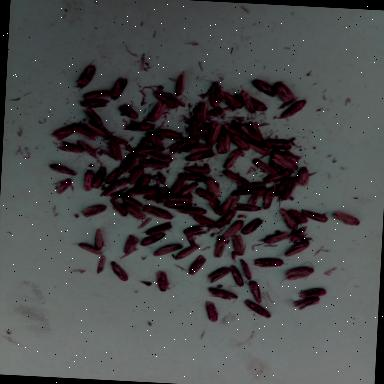pbw: (280, 94, 306, 120), (215, 89, 243, 109), (222, 120, 250, 140), (207, 286, 238, 304), (221, 168, 250, 187), (140, 204, 174, 220), (268, 152, 298, 170), (262, 167, 292, 185), (242, 300, 272, 318), (282, 239, 310, 258), (273, 80, 297, 102), (257, 230, 292, 245), (243, 278, 263, 304), (250, 78, 276, 98), (118, 151, 140, 174), (290, 294, 318, 312), (256, 136, 292, 150), (251, 158, 279, 176), (238, 122, 263, 142), (154, 193, 192, 206), (139, 230, 166, 248), (81, 106, 104, 127), (331, 210, 361, 226), (238, 90, 258, 114), (175, 70, 191, 100), (146, 98, 166, 122), (112, 192, 142, 208), (244, 141, 272, 158), (69, 123, 97, 140), (50, 124, 76, 142), (279, 176, 297, 202), (121, 202, 147, 220), (153, 242, 182, 258), (277, 208, 298, 230), (51, 176, 74, 196), (174, 244, 199, 262), (206, 266, 231, 284), (170, 136, 198, 152), (144, 221, 172, 237), (150, 92, 178, 108), (111, 76, 128, 102), (240, 216, 262, 236), (223, 147, 243, 169), (214, 210, 236, 230), (220, 194, 240, 216), (109, 260, 129, 282), (222, 219, 244, 239), (84, 123, 111, 139), (273, 172, 291, 196), (185, 148, 215, 162), (46, 162, 76, 176), (187, 254, 206, 276), (82, 88, 111, 102), (126, 164, 144, 186), (122, 234, 140, 256), (298, 286, 326, 300), (194, 188, 220, 203), (180, 142, 212, 154), (138, 158, 170, 170), (91, 165, 107, 189), (123, 120, 155, 132), (70, 242, 102, 254), (107, 138, 123, 162), (144, 131, 164, 150), (76, 98, 110, 109), (117, 102, 139, 119), (228, 134, 250, 151), (126, 186, 157, 198), (253, 256, 284, 268), (144, 186, 170, 200), (238, 259, 252, 285), (76, 139, 96, 157), (216, 130, 231, 154), (206, 122, 221, 146), (232, 202, 264, 213), (154, 270, 170, 292), (230, 234, 246, 256), (228, 264, 244, 286), (100, 180, 119, 198), (170, 176, 188, 195), (105, 166, 124, 184), (213, 235, 227, 259), (82, 204, 106, 218), (192, 214, 216, 228), (154, 128, 182, 140), (56, 141, 84, 153), (196, 100, 210, 124), (300, 210, 328, 222), (204, 300, 219, 322), (162, 200, 195, 210), (108, 198, 126, 216), (262, 187, 276, 210), (178, 181, 198, 197), (204, 176, 220, 196), (176, 206, 207, 216), (134, 145, 162, 156), (296, 166, 310, 188), (177, 172, 206, 182), (237, 180, 266, 190), (181, 166, 210, 176), (82, 168, 94, 192), (232, 188, 262, 197), (182, 224, 204, 236), (135, 174, 151, 190), (94, 228, 105, 250), (188, 116, 199, 138), (150, 152, 174, 162), (290, 225, 307, 239), (246, 192, 262, 206), (207, 201, 222, 215), (96, 255, 105, 274), (194, 126, 210, 136), (140, 136, 150, 149)
